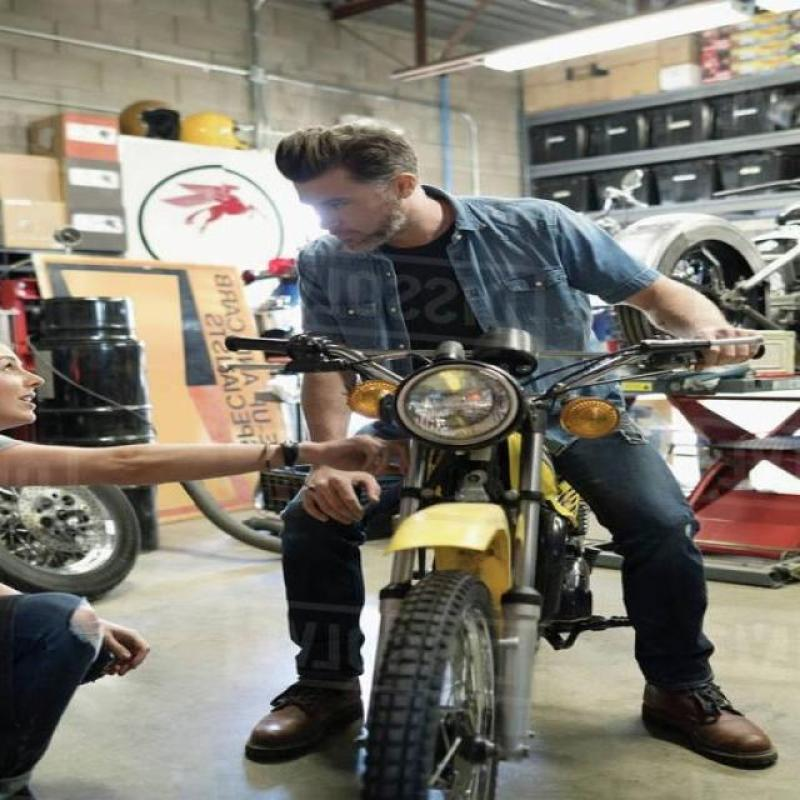nohelmet: (260, 116, 465, 269)
